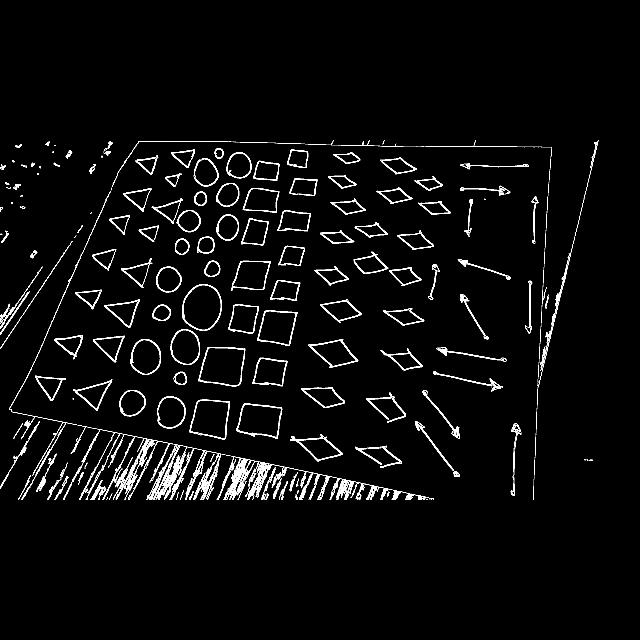arrow: (497, 412, 529, 498), (423, 380, 467, 436), (431, 368, 517, 394), (456, 290, 498, 338), (429, 342, 518, 364), (414, 419, 444, 477), (454, 253, 514, 281), (522, 190, 544, 248), (453, 158, 539, 172), (453, 178, 519, 196), (461, 194, 482, 243), (520, 276, 534, 336), (428, 260, 438, 306)
circle: (182, 281, 222, 329), (130, 338, 160, 378), (154, 394, 186, 430), (170, 329, 200, 365), (116, 388, 148, 417), (192, 158, 218, 188), (155, 266, 181, 296), (214, 212, 240, 240), (227, 150, 251, 180), (176, 208, 202, 234), (216, 182, 240, 206), (195, 236, 218, 254), (152, 303, 170, 323), (173, 238, 190, 258), (203, 260, 221, 278), (171, 370, 187, 390), (192, 191, 208, 209), (213, 146, 224, 158)
diamond: (376, 340, 424, 378), (288, 432, 344, 464), (353, 439, 405, 471), (310, 336, 360, 369), (320, 296, 366, 328), (325, 194, 375, 222), (364, 392, 408, 422), (301, 386, 345, 414), (383, 304, 425, 328), (352, 252, 388, 278), (375, 155, 421, 175), (399, 228, 436, 252), (316, 264, 350, 288), (314, 228, 354, 248), (388, 264, 424, 286), (356, 219, 386, 245), (378, 185, 412, 205), (418, 198, 450, 218), (330, 150, 364, 168), (329, 170, 358, 188), (414, 176, 446, 190)
square: (187, 396, 237, 440), (200, 342, 244, 390), (236, 402, 282, 442), (257, 308, 301, 348), (232, 256, 270, 290), (252, 355, 288, 387), (270, 272, 306, 304), (226, 298, 256, 336), (278, 208, 316, 238), (240, 216, 274, 248), (242, 186, 280, 214), (278, 242, 308, 270), (284, 176, 320, 198), (253, 156, 281, 182), (285, 149, 309, 171)
triangle: (76, 376, 114, 414), (32, 368, 66, 404), (104, 301, 144, 329), (54, 331, 86, 365), (94, 331, 125, 364), (150, 192, 182, 222), (121, 258, 151, 288), (90, 242, 118, 272), (122, 182, 148, 212), (106, 210, 130, 238), (74, 284, 102, 308), (170, 146, 197, 170), (136, 153, 158, 177), (136, 224, 162, 242), (164, 170, 182, 188)
